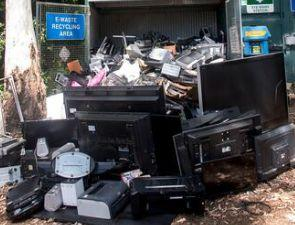electronic: (197, 53, 288, 131), (177, 110, 261, 191), (73, 111, 157, 172), (65, 87, 165, 116), (21, 118, 77, 150)
